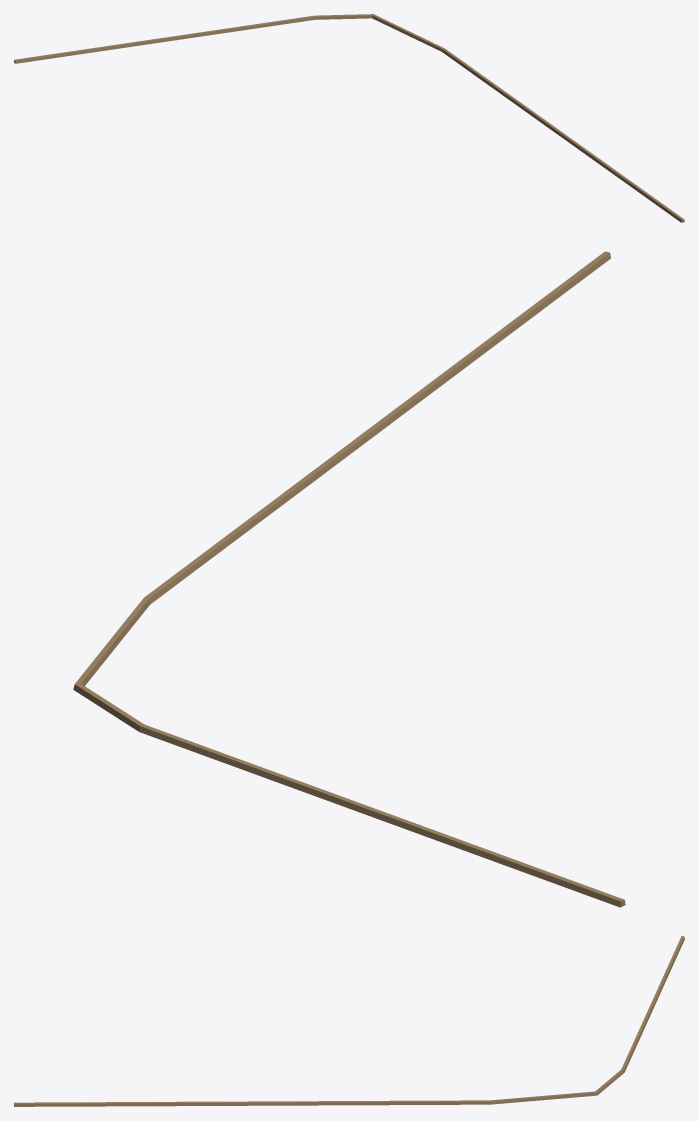
The model's file is wall-01.glb.
The picture shows the model from 3 angles, top to bottom: view 1: azimuth 30°, elevation 25°; view 2: azimuth 150°, elevation 25°; view 3: azimuth 270°, elevation 25°; orthographic projection. The views are drawn at different scales.
Visible parts, largest first — view 1: C_wall_A_01; view 2: C_wall_A_01; view 3: C_wall_A_01.
Boxes of the visible parts, bbox=[...] form: C_wall_A_01: bbox=[14, 14, 684, 222]; C_wall_A_01: bbox=[73, 251, 625, 907]; C_wall_A_01: bbox=[14, 936, 684, 1106].
Size of the model in its own units: 765 by 6.03 by 1291.
